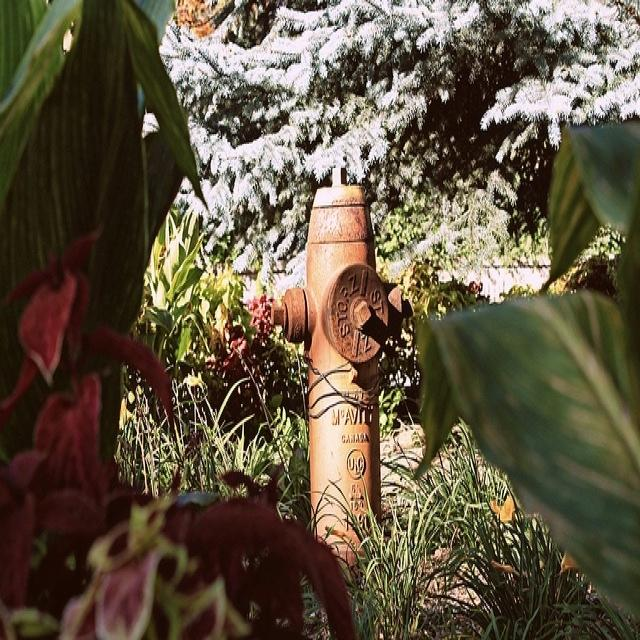fire_hydrant: (272, 162, 433, 552)
